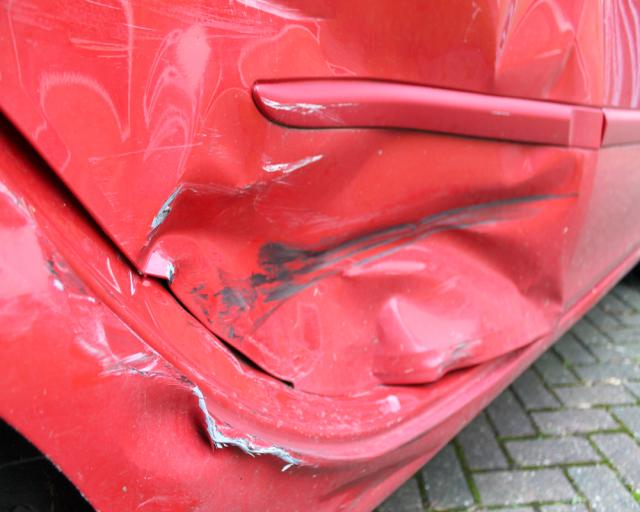dent: (136, 0, 590, 398), (122, 381, 346, 512)
